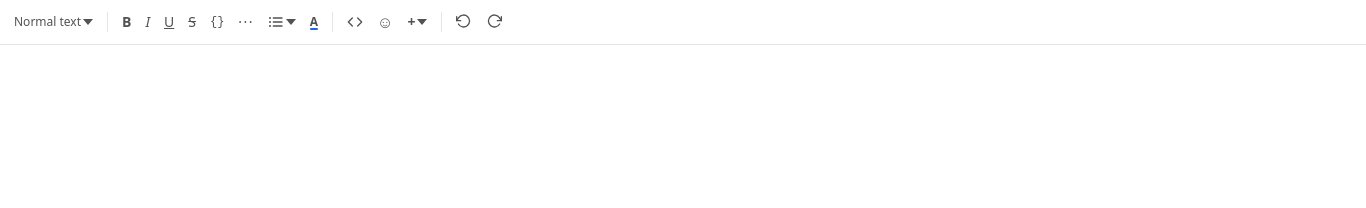
Test: EditorToolbar › FormatMenu (···) opens and shows Subscript but not Bold or Italic
Note: Bold and Italic are now individual toolbar buttons, not in this dropdown
Press the mouse on the button named "More formatting" at (246, 22), box [232,6,260,38]
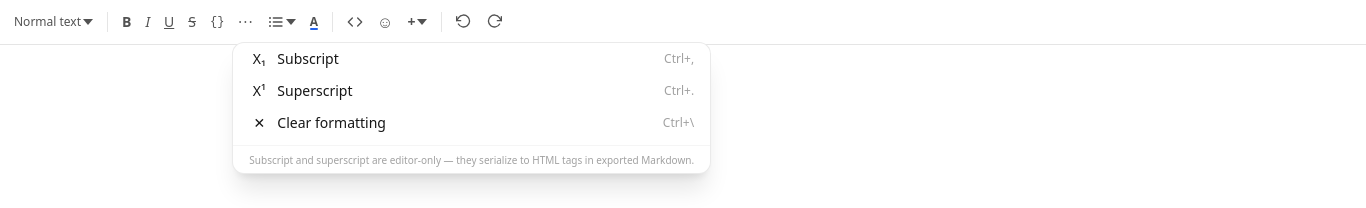
Result: the text "Subscript" is shown at [277,49,339,68]
